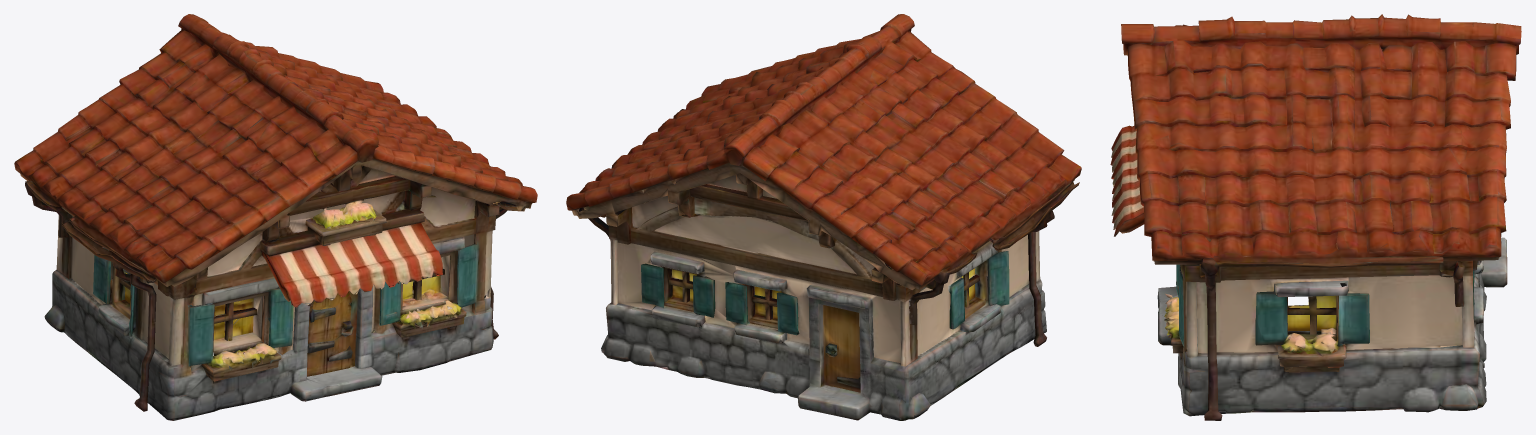
The picture shows the model from 3 angles, left to right: view 1: azimuth 30°, elevation 25°; view 2: azimuth 150°, elevation 25°; view 3: azimuth 270°, elevation 25°; orthographic projection. The views are drawn at different scales.
Parts seen in each view (by area): view 1: alpine__shop_1__native_mobile; view 2: alpine__shop_1__native_mobile; view 3: alpine__shop_1__native_mobile.
Part boxes in pixels (box(x1,y1,x2,y2)): alpine__shop_1__native_mobile: box(14, 14, 537, 420); alpine__shop_1__native_mobile: box(566, 14, 1081, 420); alpine__shop_1__native_mobile: box(1110, 14, 1521, 420).
Bounding box in the file's own units: 1 × 0.6693 × 0.7944.
Materials: 1 (1 with a texture image).
